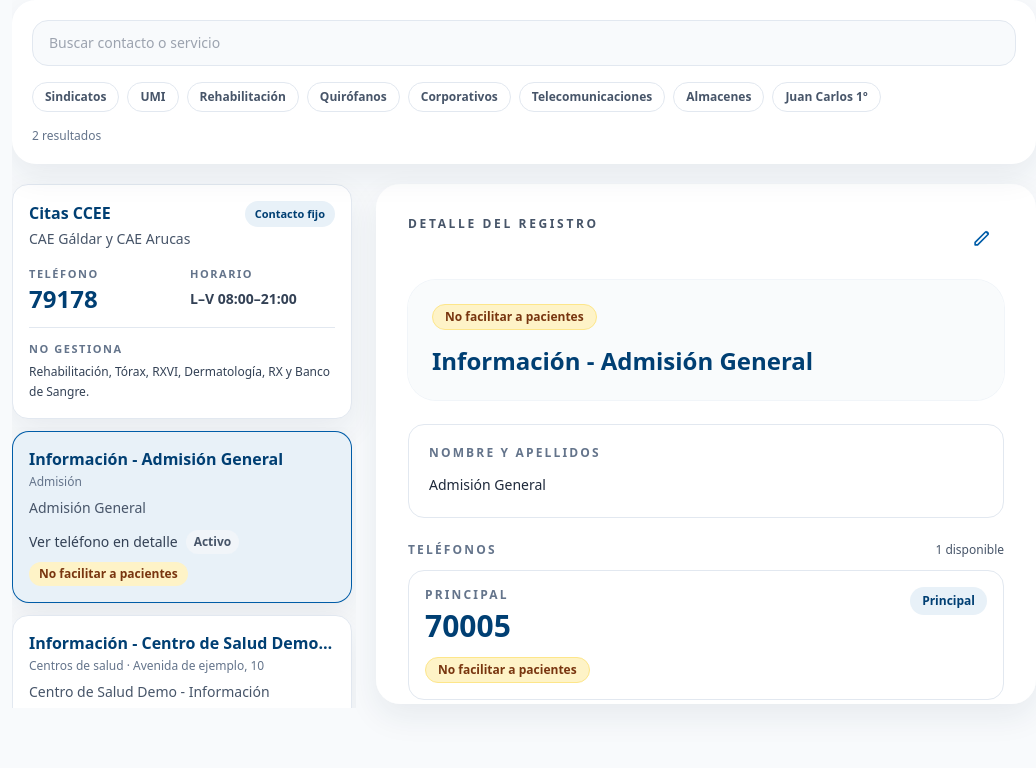
DirectoryPage › announces the empty result state as a status update
Type "sin-coincidencias" into the search field named "Buscar contactos".
click(524, 43); type("sin-coincidencias")  # box 32,20 -> 1016,66
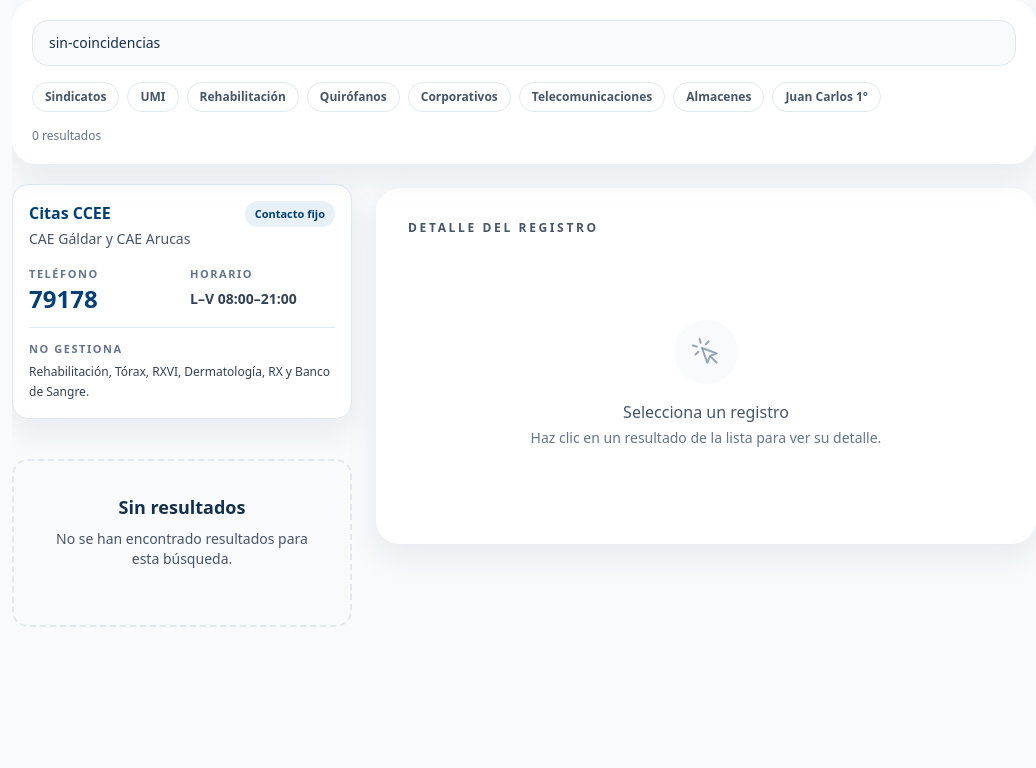
Check: the message "0 resultados" is shown, box 32,127 -> 101,144
Check: the text "No se han encontrado resultados para esta búsqueda." is shown, box 46,529 -> 318,569
